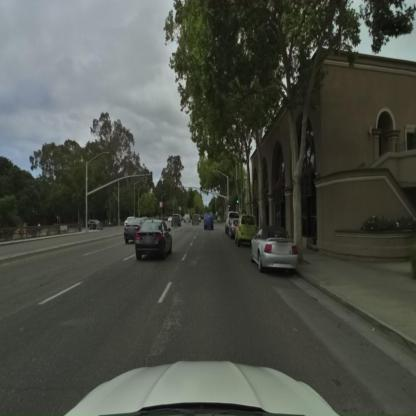car: (250, 226, 300, 273), (134, 219, 173, 260), (234, 216, 258, 248), (124, 216, 144, 242), (226, 212, 241, 238), (87, 219, 102, 231), (203, 213, 213, 230), (171, 215, 181, 228)
